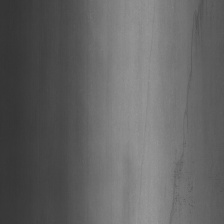inclusion: (167, 2, 212, 220)
